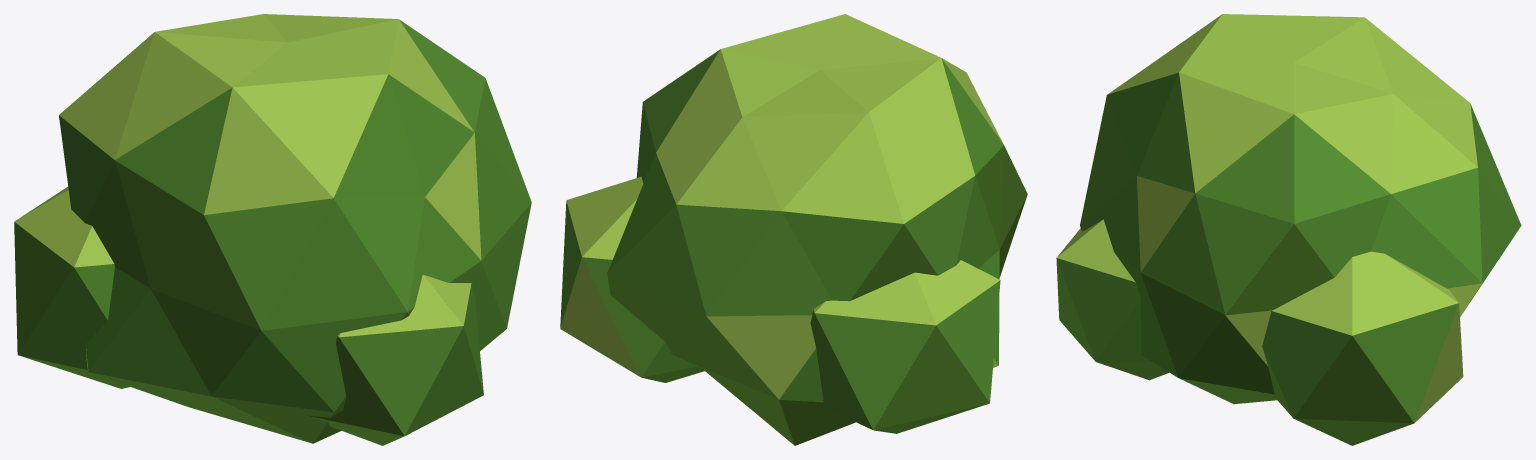
File: bush_round.glb
3 views of the same model, side by side, from view 1: azimuth 30°, elevation 25°; view 2: azimuth 150°, elevation 25°; view 3: azimuth 270°, elevation 25° (orthographic). The views are drawn at different scales.
Visible parts, largest first — view 1: bush.round; view 2: bush.round; view 3: bush.round.
Part boxes in pixels (x1=…): bush.round: x1=14, y1=14, x2=531, y2=445; bush.round: x1=560, y1=14, x2=1027, y2=445; bush.round: x1=1056, y1=14, x2=1521, y2=445.
Bounding box in the file's own units: 1.72 × 1.27 × 1.61.
